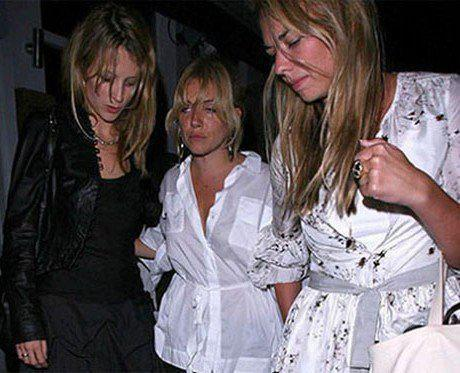Drunk: (259, 16, 334, 102), (175, 77, 230, 156), (85, 45, 140, 120)
